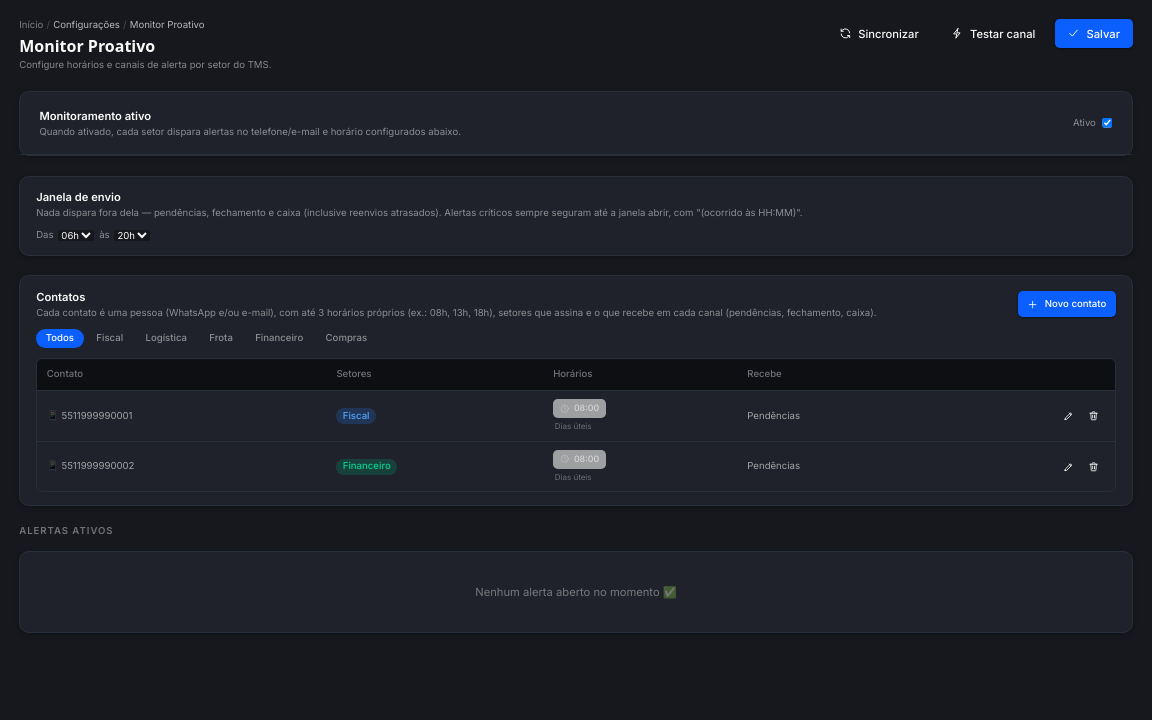
it: MonitorConfigPage — T9 Contato unificado (wizard 3 passos) › aba de setor filtra a lista de contatos
Check: the text "Contatos" is shown, box [36,290,85,304]
Check: the text "📱 5511999990001" is shown, box [47,410,132,421]
Click the button "Fiscal" at (110, 339), box [87,329,133,348]
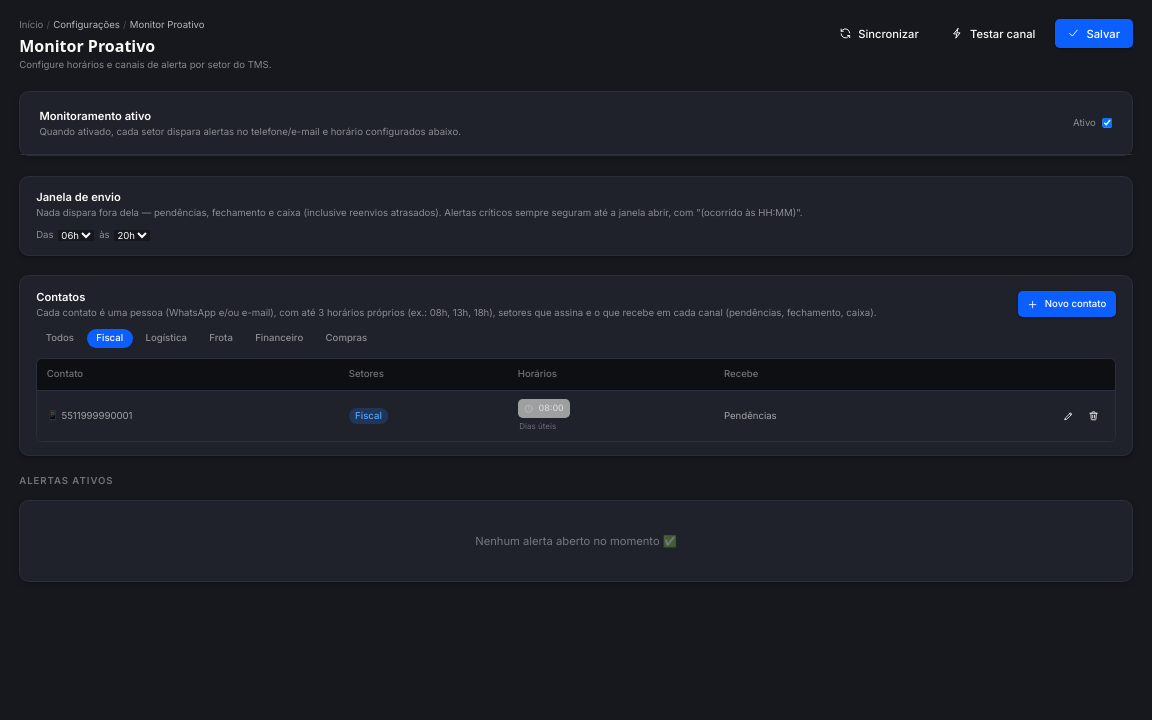
Check: the text "📱 5511999990001" is shown, box [47,410,132,421]
Check: the text "5511999990002" is gone
